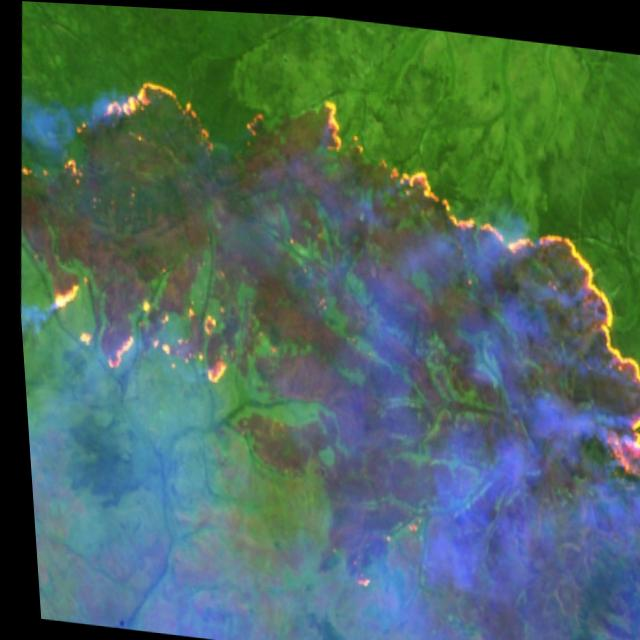fire: (303, 87, 546, 281), (508, 199, 640, 503), (13, 65, 241, 203), (29, 268, 235, 393), (339, 501, 417, 592), (236, 95, 278, 147)
